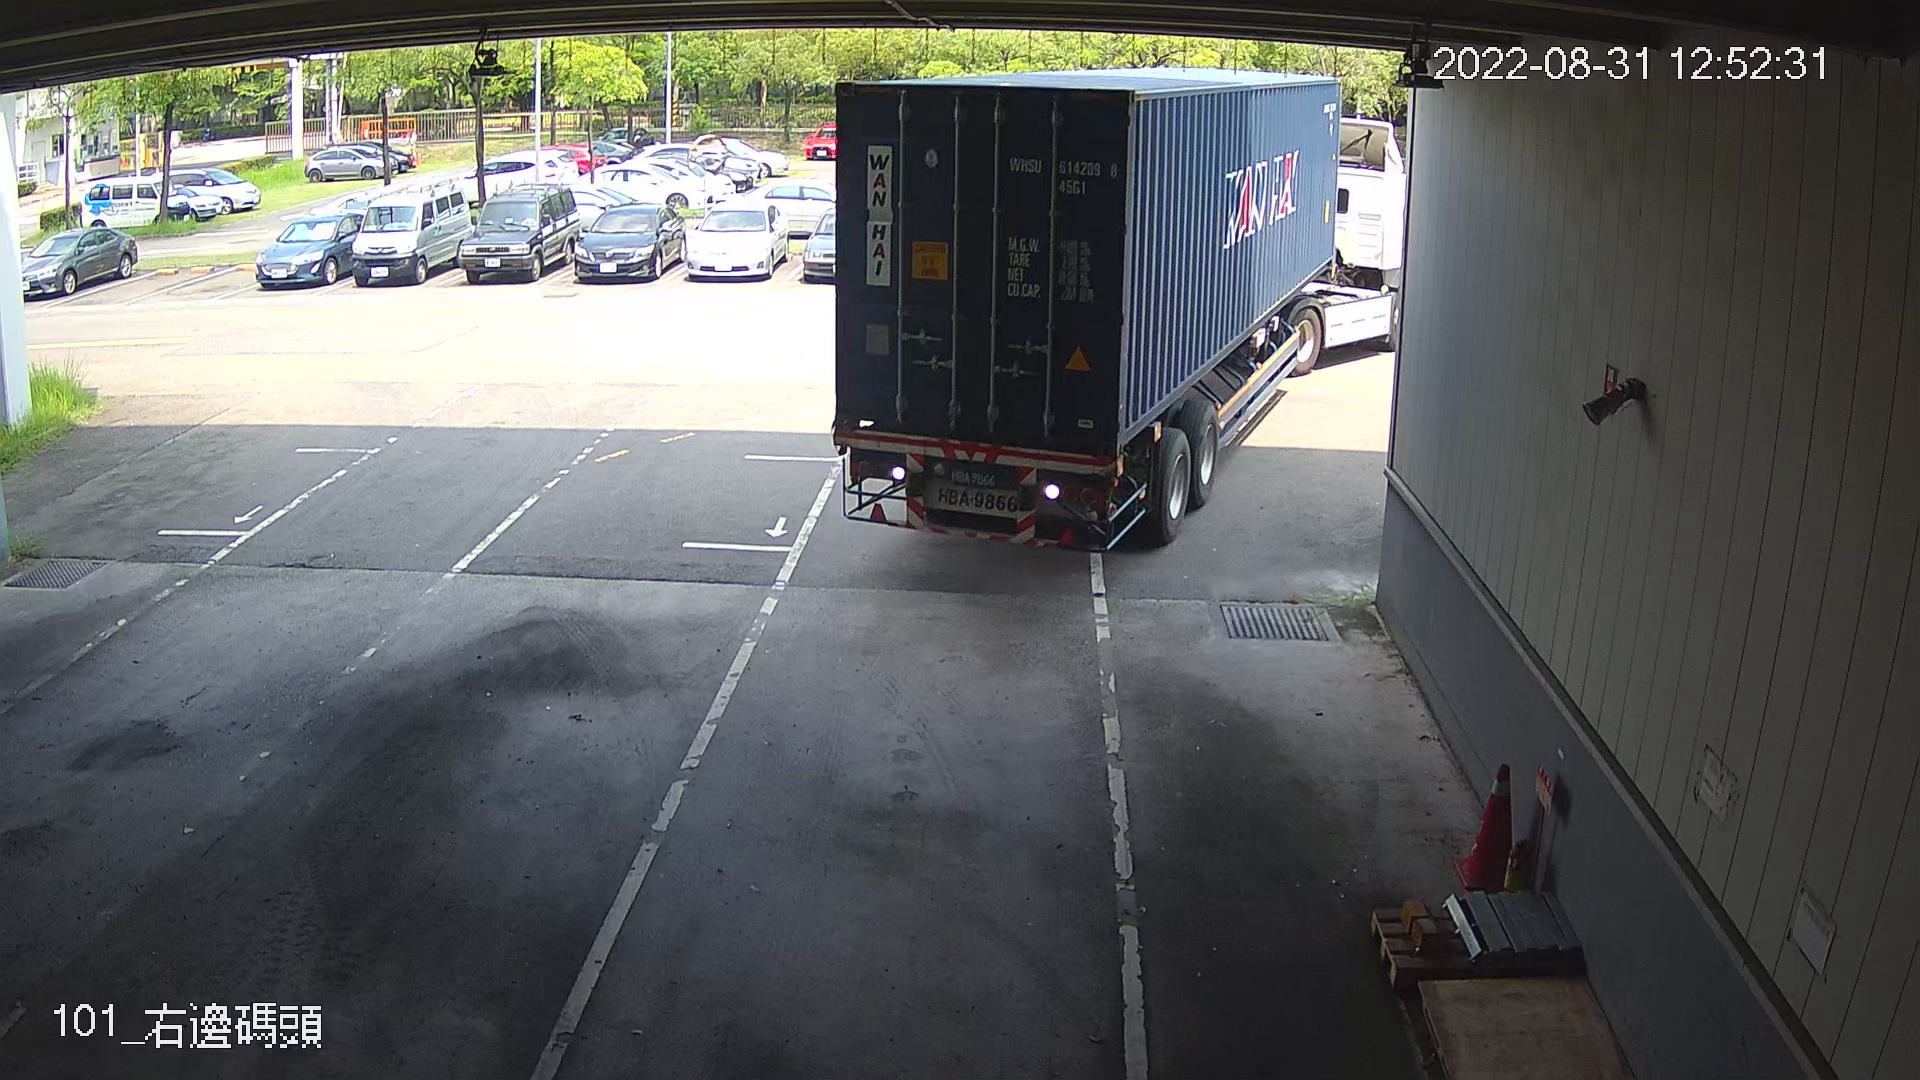container: (1000, 146, 1125, 202)
